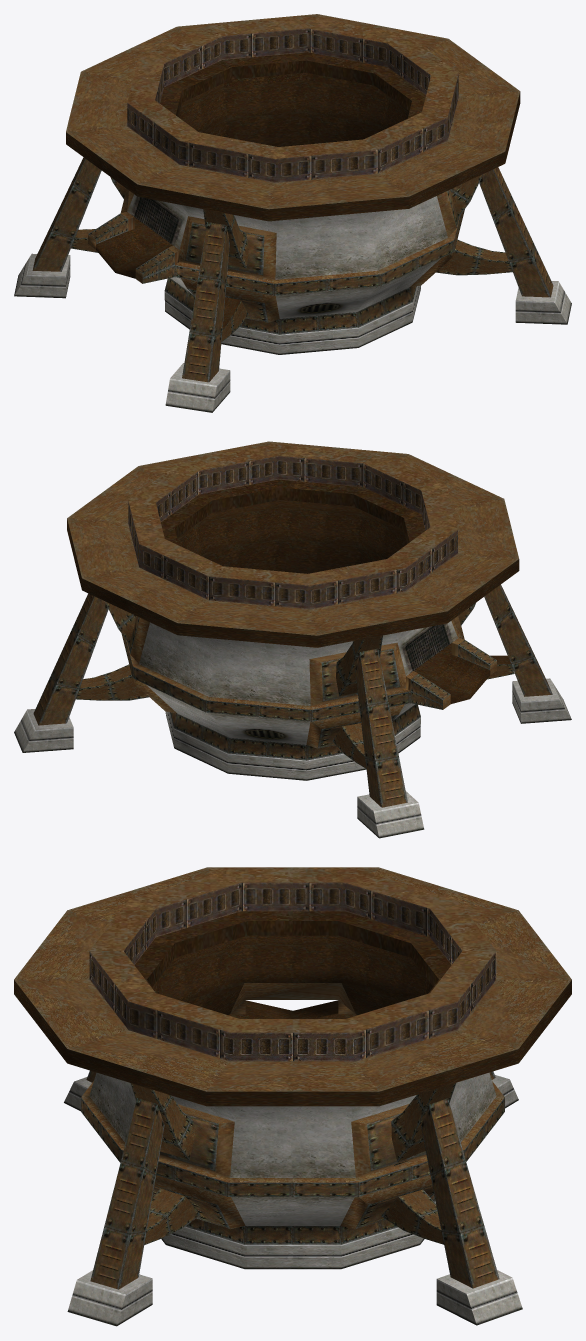
Rendered from DWARF_PALACE_FORGE_WATERFILTER.fbx.
3 views of the same model, one above another, from view 1: azimuth 30°, elevation 25°; view 2: azimuth 150°, elevation 25°; view 3: azimuth 270°, elevation 25° (orthographic). The views are drawn at different scales.
Visible parts, largest first — view 1: DWARF_PALACE_FORGE_WATERFILTER; view 2: DWARF_PALACE_FORGE_WATERFILTER; view 3: DWARF_PALACE_FORGE_WATERFILTER.
Boxes of the visible parts, box(x1,y1,x2,y2) form: DWARF_PALACE_FORGE_WATERFILTER: box(14, 14, 571, 412); DWARF_PALACE_FORGE_WATERFILTER: box(14, 441, 571, 838); DWARF_PALACE_FORGE_WATERFILTER: box(14, 867, 571, 1326).
Bounding box in the file's own units: 84060 × 41503 × 82287.
15 materials, 15 textured.
